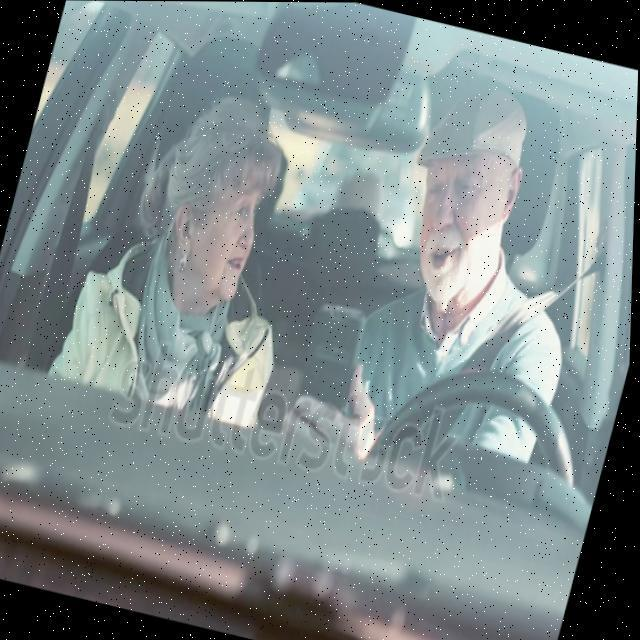PhoneCall: (290, 298, 371, 418)
